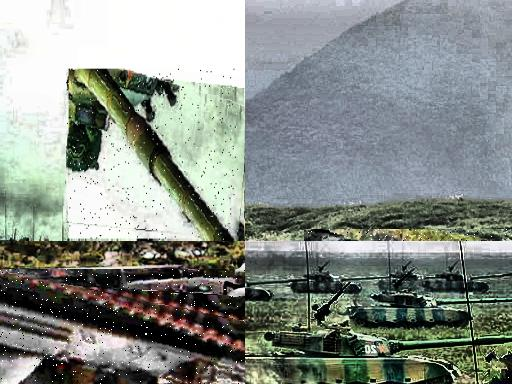tanks: (67, 71, 237, 241), (1, 277, 246, 384), (246, 324, 472, 384), (347, 291, 470, 328), (310, 262, 387, 294), (424, 263, 465, 294), (246, 280, 304, 301), (469, 274, 512, 294), (392, 263, 411, 293), (399, 273, 425, 291), (493, 360, 512, 384), (476, 336, 512, 347), (290, 277, 308, 294), (471, 299, 512, 304), (347, 284, 363, 294), (378, 281, 389, 293)
